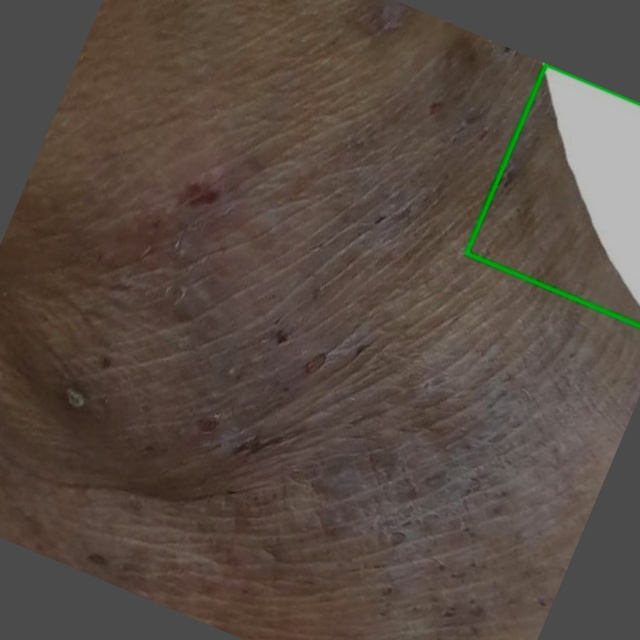Contact Dermatitis: (467, 64, 639, 325)
